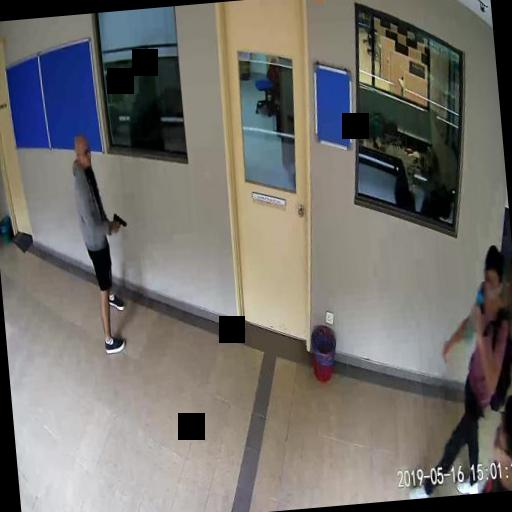Handgun: (110, 210, 126, 232)
